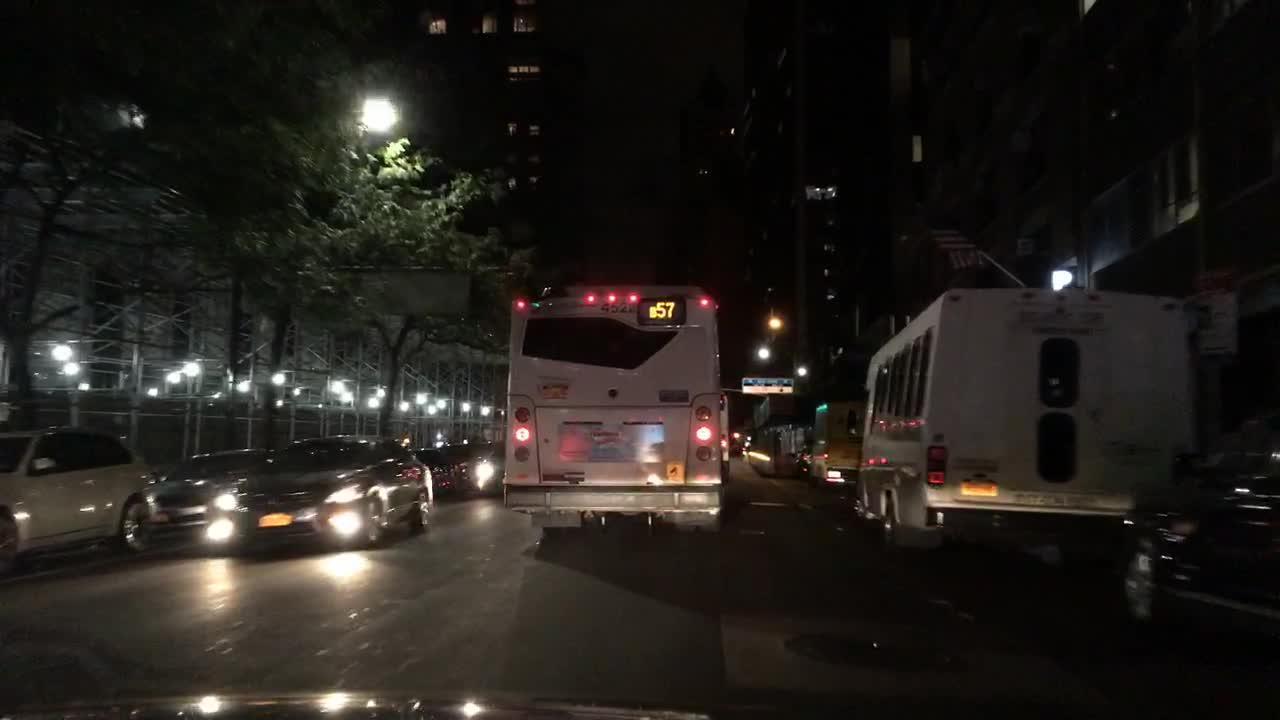bus: (848, 284, 1196, 571), (499, 284, 722, 537), (811, 400, 863, 491), (772, 422, 809, 481), (721, 392, 731, 482)
car: (1115, 398, 1278, 672), (207, 436, 434, 551), (0, 426, 162, 581), (160, 446, 275, 550), (451, 439, 506, 494), (417, 449, 455, 496)
traffic sign: (741, 375, 797, 396)
